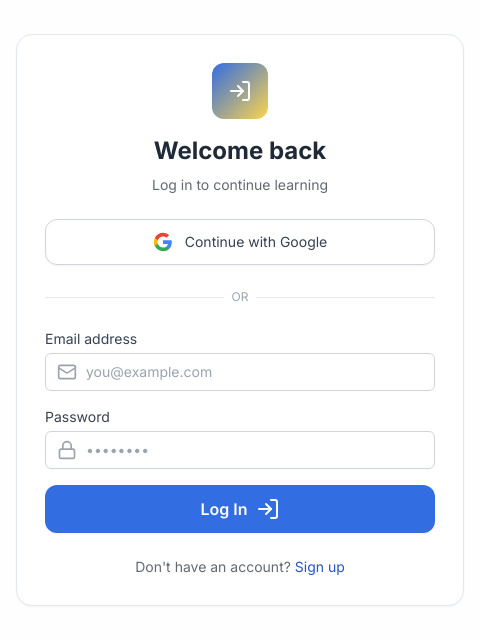
Test: Login.tsx › clears server error on password field when user retypes
In the field labelled "Email address": {"x": 240, "y": 372} [45,353,435,391], type "a@b.com"
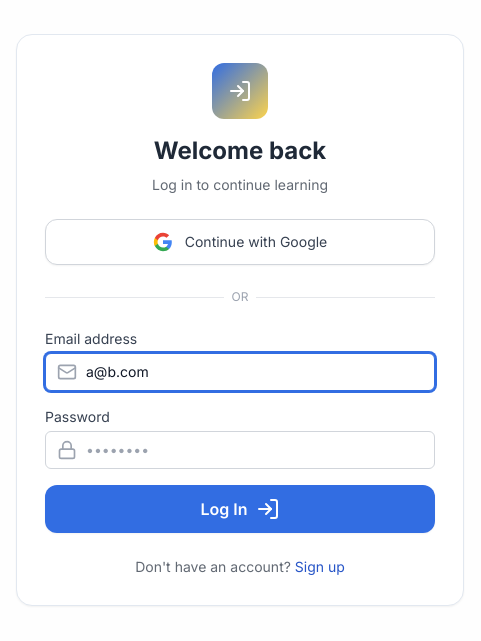
In the password field labelled "Password": {"x": 240, "y": 450} [45,431,435,469], type "Secure1!"
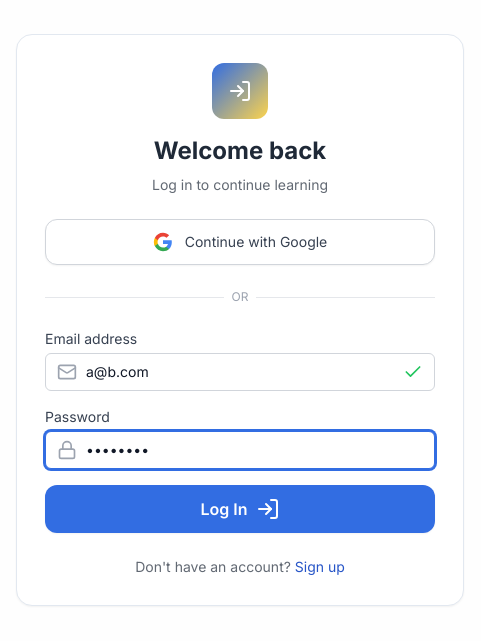
Click the button "Log In": {"x": 240, "y": 509} [45,485,435,533]
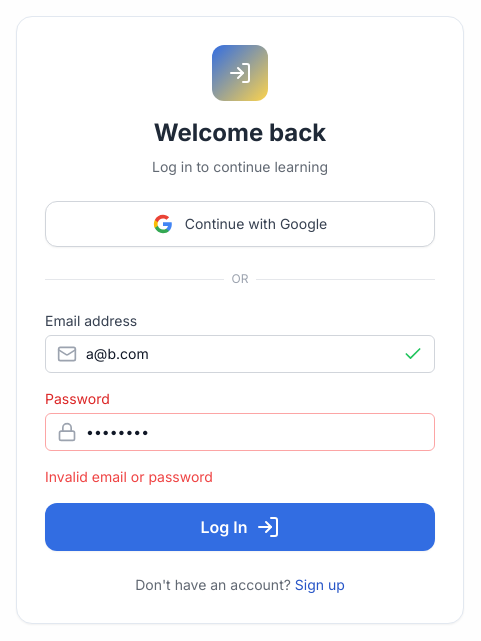
expect the text "Invalid email or password" is shown: met, box [45,468,213,485]
// Typing in password field should clear the server error
In the password field labelled "Password": {"x": 240, "y": 432} [45,413,435,451], type "x"
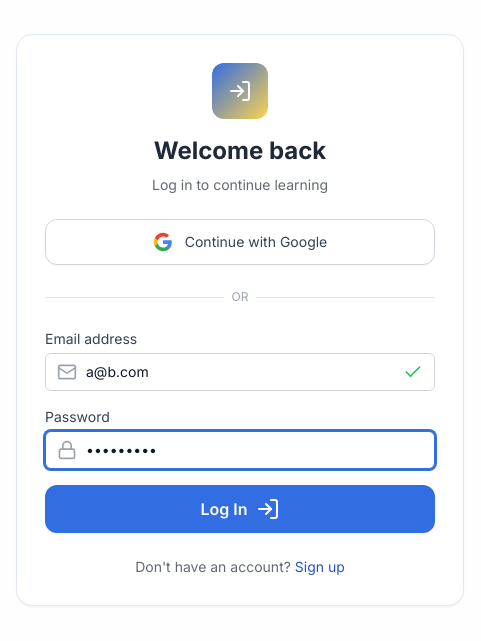
expect the text "Invalid email or password" is gone: met
